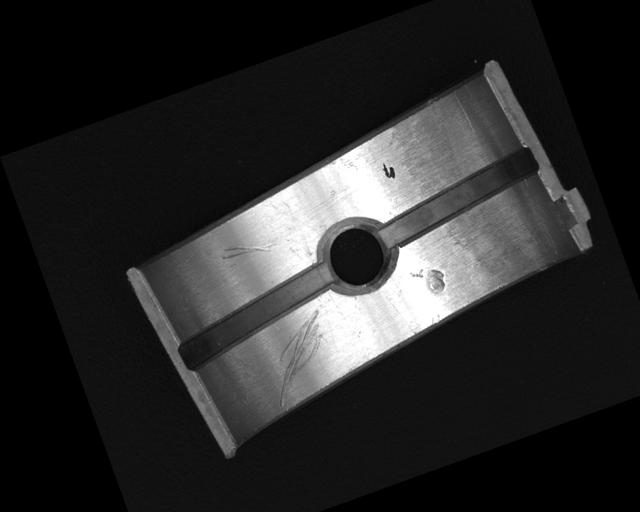blot: (380, 159, 397, 182)
bruise: (409, 261, 450, 301)
gap: (168, 259, 346, 371), (369, 144, 548, 248)
hole: (313, 210, 400, 300)
nick: (251, 308, 346, 407), (219, 231, 277, 266)
